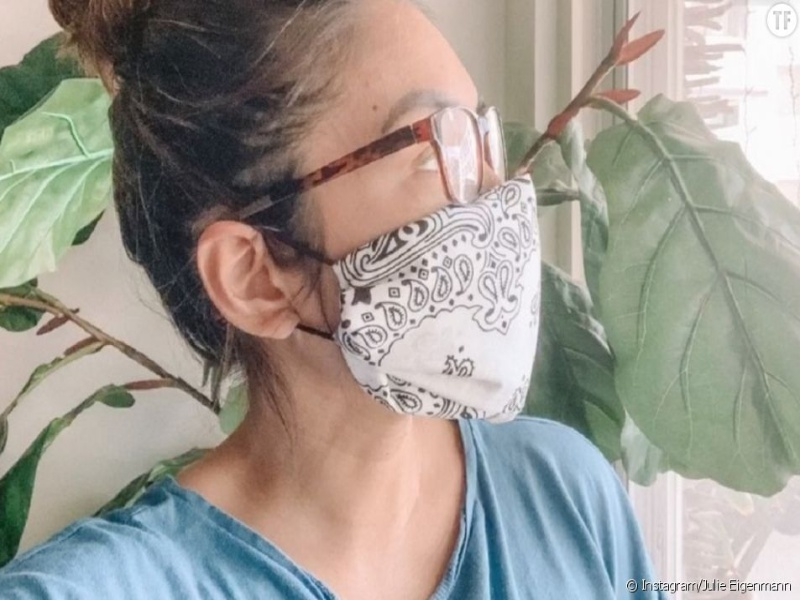ManaoArotava: (239, 11, 581, 461)
